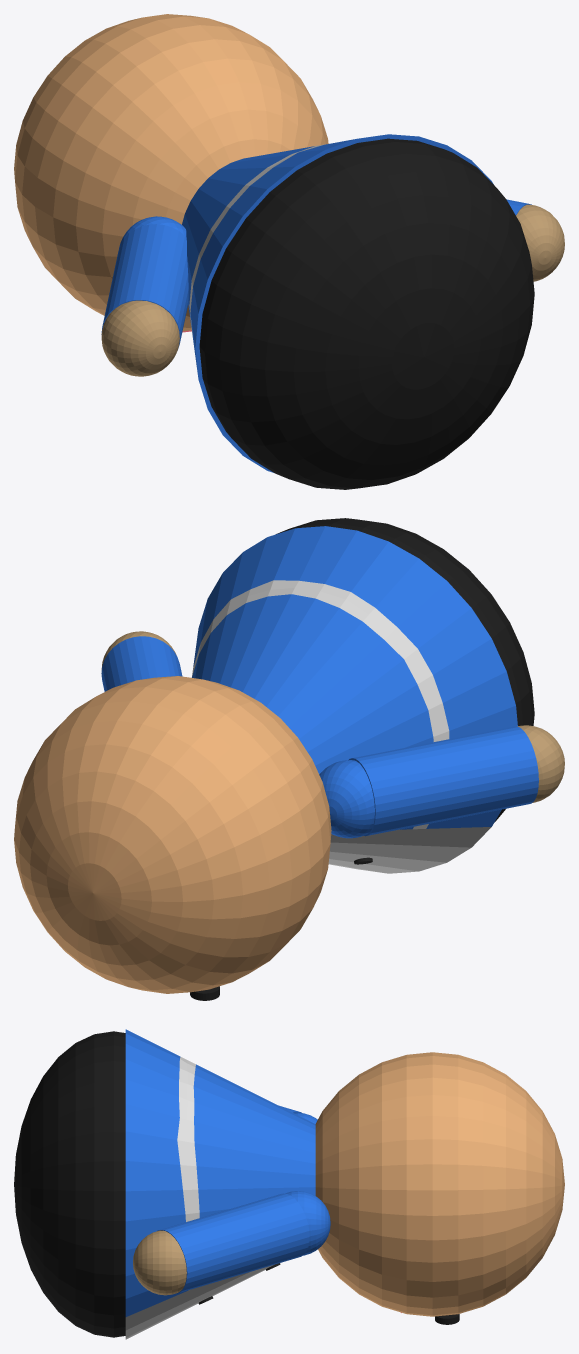
File: Player2.fbx
The picture shows the model from 3 angles, top to bottom: view 1: azimuth 30°, elevation 25°; view 2: azimuth 150°, elevation 25°; view 3: azimuth 270°, elevation 25°; orthographic projection. The views are drawn at different scales.
Visible parts, largest first — view 1: 足下半身; view 2: 足下半身; view 3: 足下半身.
Part boxes in pixels (x1=…): 足下半身: x1=14, y1=14, x2=564, y2=489; 足下半身: x1=14, y1=518, x2=564, y2=1000; 足下半身: x1=14, y1=1029, x2=564, y2=1339.
Size of the model in its own units: 280 by 200 by 354.
